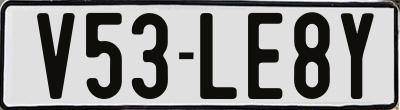3: (129, 11, 170, 99)
5: (86, 13, 123, 101)
8: (292, 9, 328, 98)
E: (246, 11, 280, 101)
L: (197, 13, 239, 100)
V: (35, 11, 77, 101)
Y: (339, 11, 377, 101)
